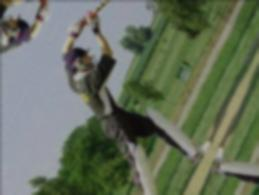batsman: (40, 20, 202, 195)
